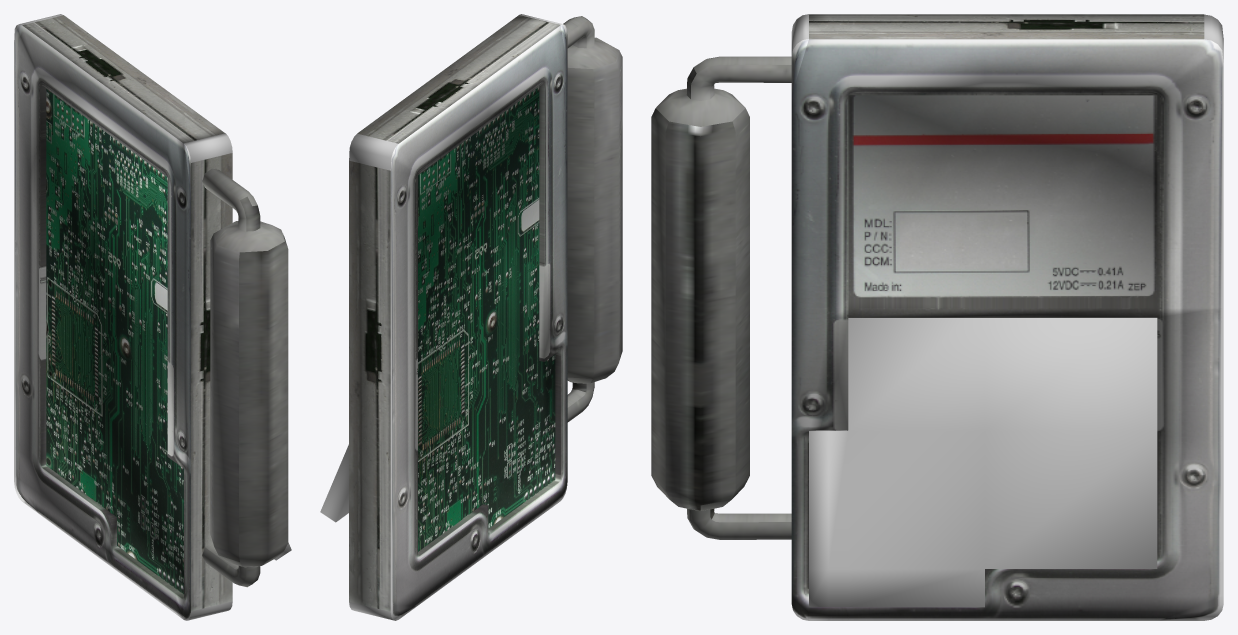
The model's file is savepoint.fbx.
The picture shows the model from 3 angles, left to right: view 1: azimuth 30°, elevation 25°; view 2: azimuth 150°, elevation 25°; view 3: azimuth 270°, elevation 25°; orthographic projection. The views are drawn at different scales.
Parts seen in each view (by area): view 1: TexturesCom_Electronics0001_M.001; view 2: TexturesCom_Electronics0001_M.001; view 3: TexturesCom_Electronics0001_M.001.
Boxes of the visible parts, x1,y1,x2,y2 form: TexturesCom_Electronics0001_M.001: (14,14,291,620); TexturesCom_Electronics0001_M.001: (320,14,622,620); TexturesCom_Electronics0001_M.001: (651,14,1223,620).
Bounding box in the file's own units: 25.9 × 96.76 × 86.25.
